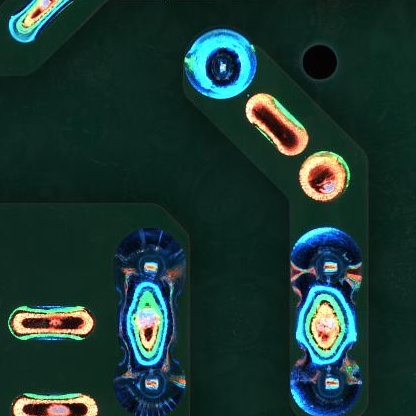spot: (291, 228, 365, 295), (186, 31, 257, 97), (115, 356, 188, 416), (114, 229, 186, 289), (289, 360, 367, 414)
